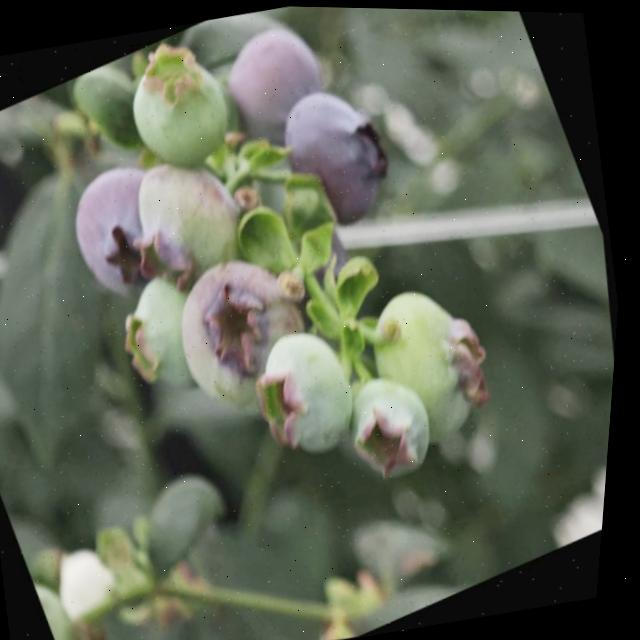RipeBlueBerry: (256, 62, 422, 251)
Semi-RipeBlueBerry: (46, 150, 201, 317), (205, 10, 348, 148)
UnripeBlueBerry: (145, 229, 342, 434), (344, 257, 534, 465), (236, 308, 392, 478), (101, 24, 258, 190)
